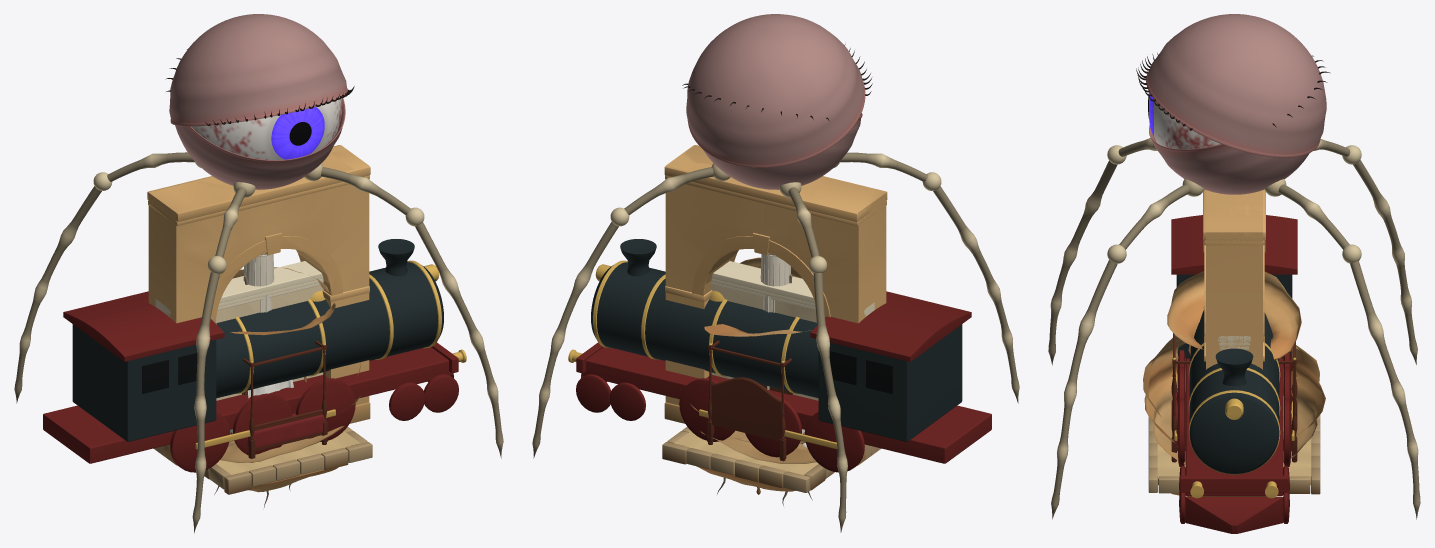
File: props.glb
3 renders of one model, left to right at view 1: azimuth 30°, elevation 25°; view 2: azimuth 150°, elevation 25°; view 3: azimuth 270°, elevation 25°, orthographic. The views are drawn at different scales.
Parts seen in each view (by area): view 1: Train, Arch, UW_LidTop, Platform, UW_LidBottom, UW_Body, Wall, Bed, UW_Leg2_Lower, UW_Leg3_Lower, UW_Leg1_Lower, UW_Iris (+5 smaller); view 2: Train, Arch, UW_LidTop, Platform, Bed, Wall, UW_LidBottom, UW_Leg1_Lower, UW_Leg0_Lower, UW_Leg2_Lower, UW_Leg0, Rock_B (+3 smaller); view 3: Train, UW_LidTop, Arch, UW_LidBottom, Rock_B, Rock_A, Platform, UW_Leg3_Lower, UW_Leg0_Lower, UW_Leg2_Lower, UW_Leg1_Lower, UW_Body (+3 smaller).
Part boxes in pixels (x1,y1,x2,y2): Train: (43, 239, 466, 472); Arch: (147, 145, 370, 465); UW_LidTop: (169, 14, 354, 126); Platform: (204, 427, 372, 507); UW_LidBottom: (165, 49, 345, 189); UW_Body: (191, 98, 342, 160); Wall: (154, 261, 323, 454); Bed: (230, 340, 327, 462); UW_Leg2_Lower: (192, 256, 226, 533); UW_Leg3_Lower: (405, 207, 503, 458); UW_Leg1_Lower: (14, 172, 112, 403); UW_Iris: (271, 106, 324, 159); Train: (568, 239, 991, 472); Arch: (664, 145, 887, 465); UW_LidTop: (686, 14, 872, 167); Platform: (662, 427, 834, 505); Bed: (707, 340, 804, 461); Wall: (711, 261, 880, 454); UW_LidBottom: (682, 83, 862, 189); UW_Leg1_Lower: (808, 256, 847, 532); UW_Leg0_Lower: (532, 207, 629, 458); UW_Leg2_Lower: (922, 172, 1019, 403); UW_Leg0: (624, 163, 730, 215); Rock_B: (690, 404, 816, 463); Train: (1171, 215, 1297, 533); UW_LidTop: (1136, 14, 1326, 157); Arch: (1203, 189, 1265, 369); UW_LidBottom: (1149, 55, 1330, 194); Rock_B: (1143, 336, 1325, 464); Rock_A: (1167, 271, 1301, 439); Platform: (1148, 415, 1320, 496); UW_Leg3_Lower: (1051, 244, 1126, 519); UW_Leg0_Lower: (1342, 244, 1420, 519); UW_Leg2_Lower: (1048, 145, 1126, 365); UW_Leg1_Lower: (1342, 145, 1417, 364); UW_Body: (1154, 101, 1220, 149).
Size of the model in its own units: 8 by 9.28 by 6.49.
